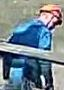helmet: (39, 3, 62, 25)
vest: (7, 17, 53, 50)
